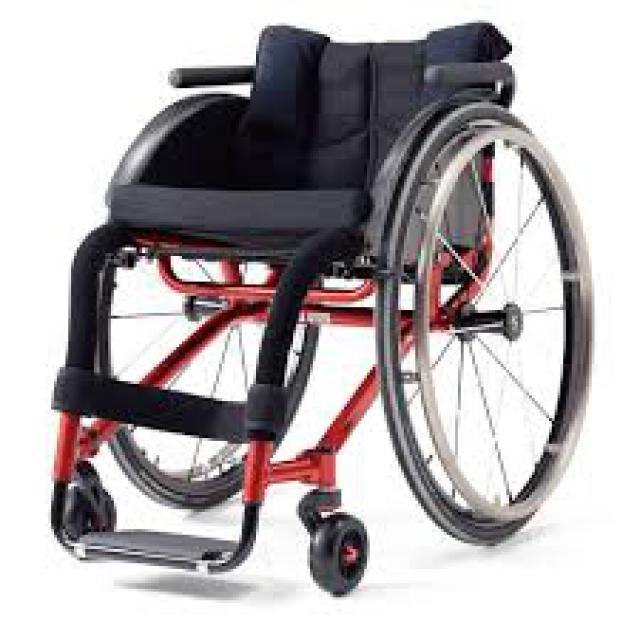wheelchair: (40, 14, 603, 617)
